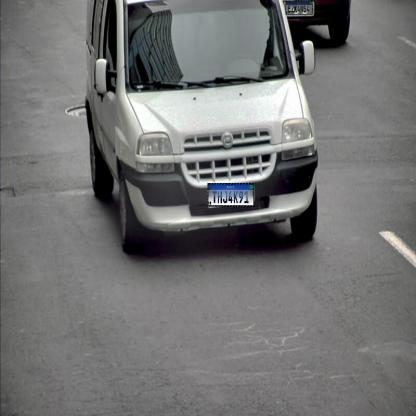PlacaM: (208, 183, 254, 207), (286, 0, 312, 14)
